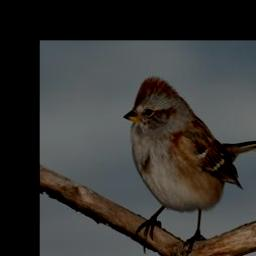Sparrow: (121, 75, 256, 256)
